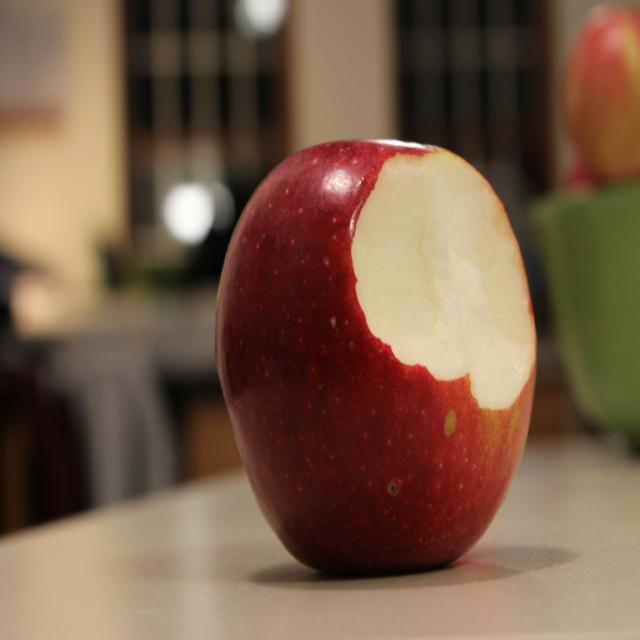Apple: (213, 136, 538, 576), (559, 10, 640, 185)
